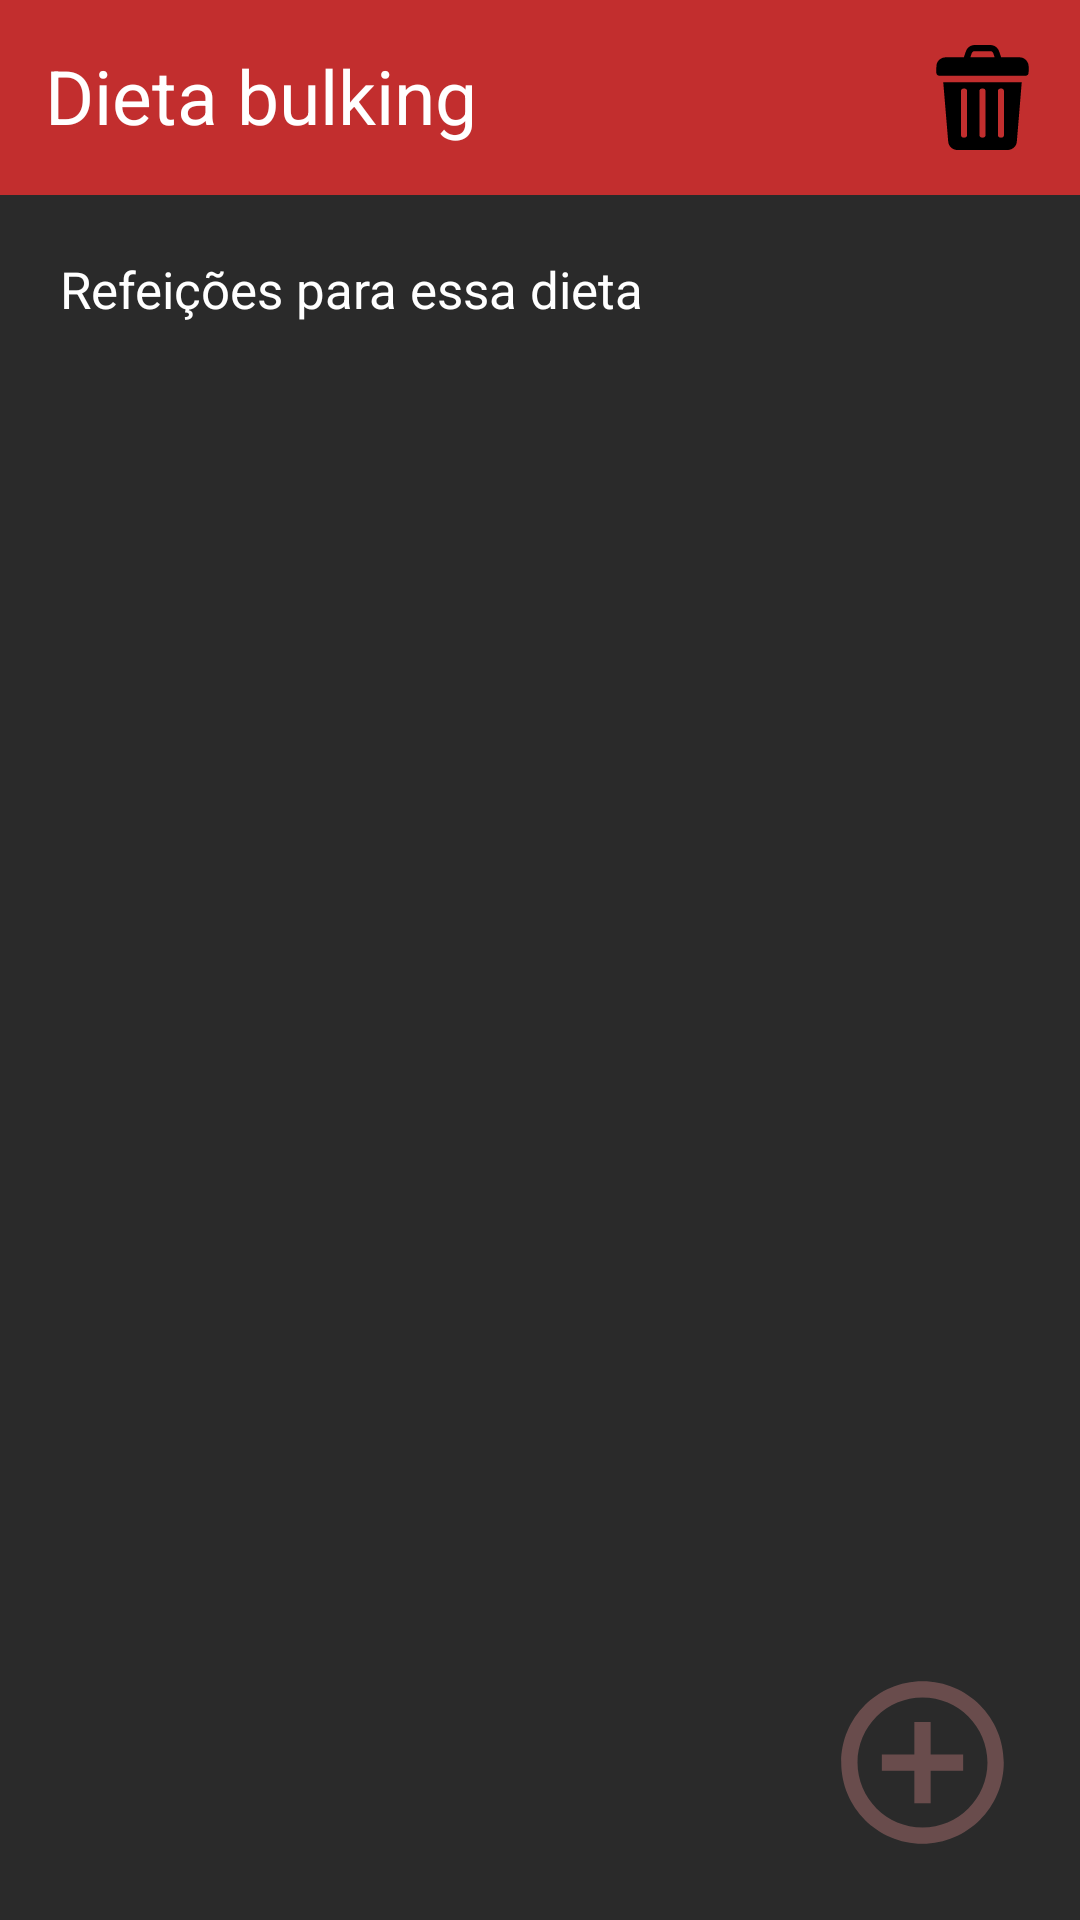

Screen size 1080*1920. Icon name, then its box in pixels as Rect(x1, y1, x2, y2):
add circle: Rect(841, 1681, 1004, 1844)
trash: Rect(936, 45, 1029, 150)
